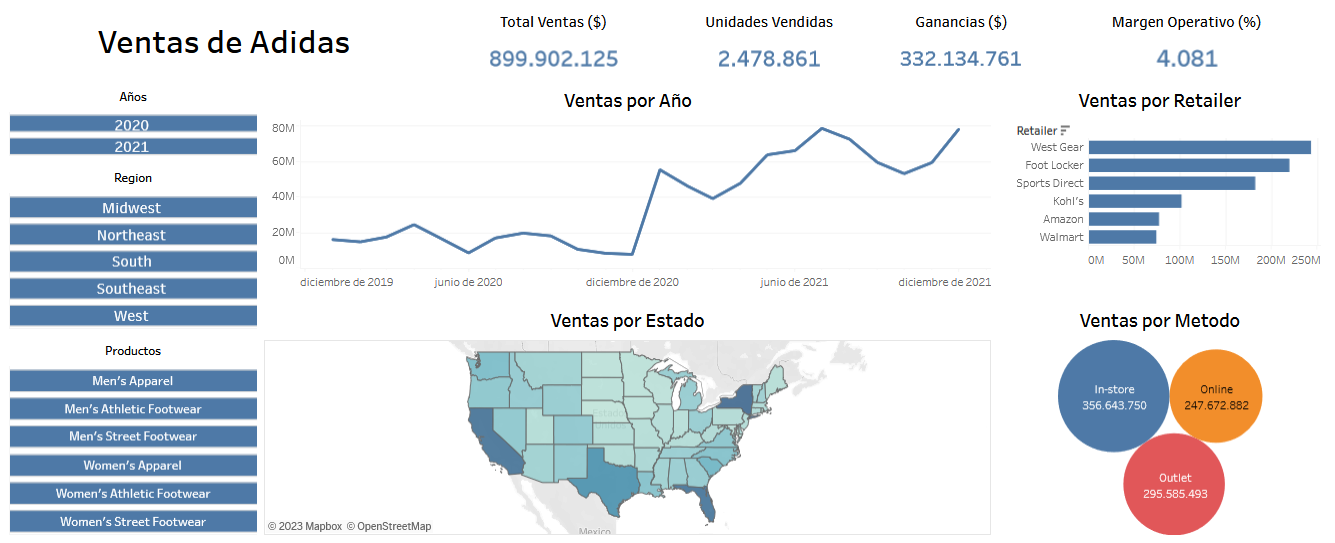

The page's visual inventory and layout, read from the dashboard file:
{"tool":"powerbi","page":{"name":"Página 1","canvas":[1280,720],"ordinal":0},"visuals":[{"type":"lineChart","fields":{"Y":["Sum(Data.Total Sales)"],"Category":["Data.Invoice Date.Variación.Jerarquía de fechas.Año","Data.Invoice Date.Variación.Jerarquía de fechas.Mes"]},"box":[189.1,69,690.3,291.1],"z":0},{"type":"treemap","fields":{"Group":["Data.State"],"Values":["Sum(Data.Total Sales)"]},"box":[189.1,391.7,690.3,327.1],"z":1000},{"type":"donutChart","fields":{"Category":["Data.Sales Method"],"Y":["Sum(Data.Total Sales)"]},"box":[879.3,391.7,400.7,327.1],"z":2000},{"type":"barChart","fields":{"Y":["Sum(Data.Total Sales)"],"Category":["Data.Retailer"]},"box":[879.3,69,400.7,291.1],"z":3000},{"type":"slicer","fields":{"Values":["Data.Invoice Date.Variación.Jerarquía de fechas.Año"]},"box":[0,69,189.1,93],"z":4000},{"type":"textbox","box":[0,0,1280,69],"z":5000},{"type":"slicer","fields":{"Values":["Data.Region"]},"box":[0,162.1,189.1,180.1],"z":5001},{"type":"slicer","fields":{"Values":["Data.Product"]},"box":[0,342.1,189.1,213.1],"z":5002}]}

Visuals, with their boxes on the page's 1280x720 design canvas (x1, y1, x2, y2). These are canvas units, not pixel positions in the 1335x543 screenshot, which may show the page scaled, cropped or inside an application window:
lineChart - Sum(Data.Total Sales) x Data.Invoice Date.Variación.Jerarquía de fechas.Año: rect(189, 69, 879, 360)
treemap - Data.State x Sum(Data.Total Sales): rect(189, 392, 879, 719)
donutChart - Data.Sales Method x Sum(Data.Total Sales): rect(879, 392, 1280, 719)
barChart - Sum(Data.Total Sales) x Data.Retailer: rect(879, 69, 1280, 360)
slicer - Data.Invoice Date.Variación.Jerarquía de fechas.Año: rect(0, 69, 189, 162)
textbox: rect(0, 0, 1280, 69)
slicer - Data.Region: rect(0, 162, 189, 342)
slicer - Data.Product: rect(0, 342, 189, 555)
